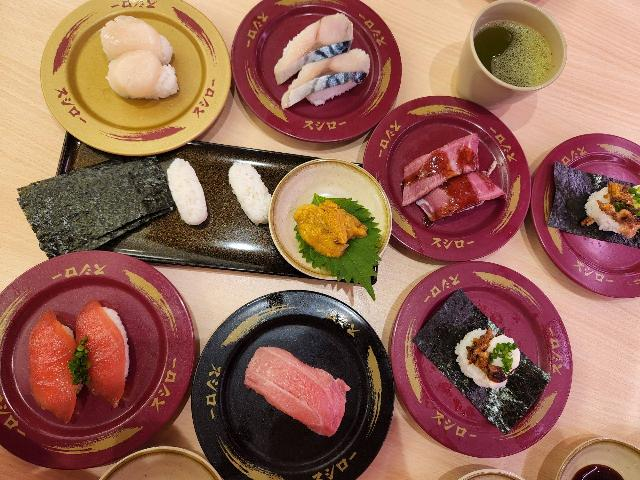janback: (195, 307, 381, 475)
jangold: (47, 13, 223, 143)
janred: (7, 266, 191, 446), (375, 271, 572, 426), (234, 23, 380, 140), (379, 121, 511, 245), (531, 147, 640, 294)
